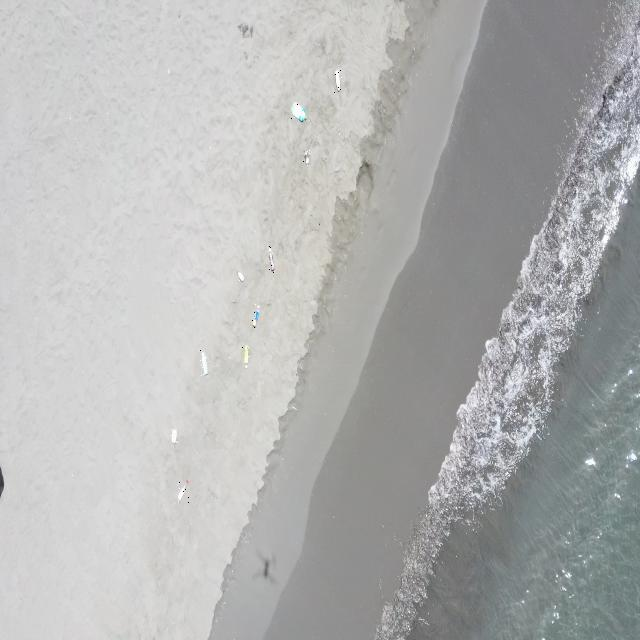Garbage: (292, 101, 306, 120), (251, 304, 260, 327), (200, 348, 207, 375), (178, 480, 187, 500), (236, 24, 252, 35), (241, 344, 248, 367), (333, 68, 340, 89), (268, 244, 273, 272), (0, 467, 3, 495), (178, 486, 184, 500), (171, 428, 176, 443), (303, 150, 308, 163), (236, 271, 243, 280)
